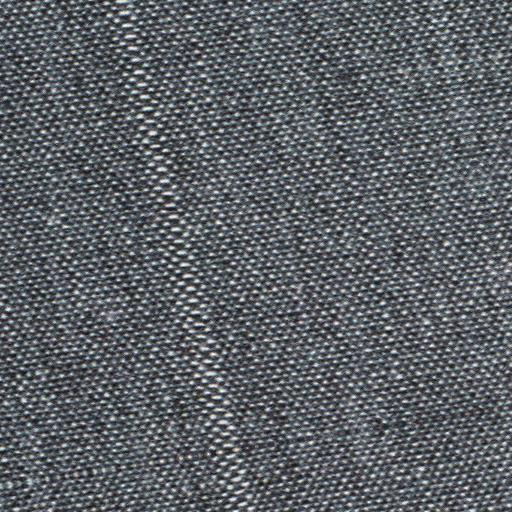slub: (107, 3, 270, 511)
